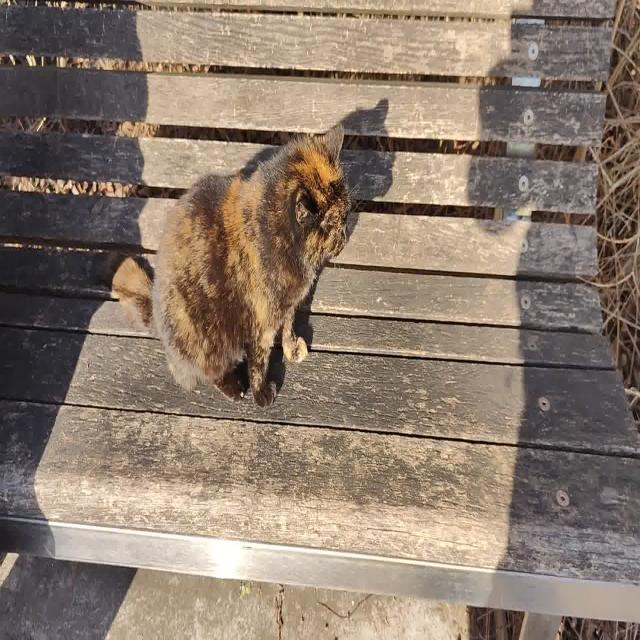cat: (95, 122, 352, 407)
